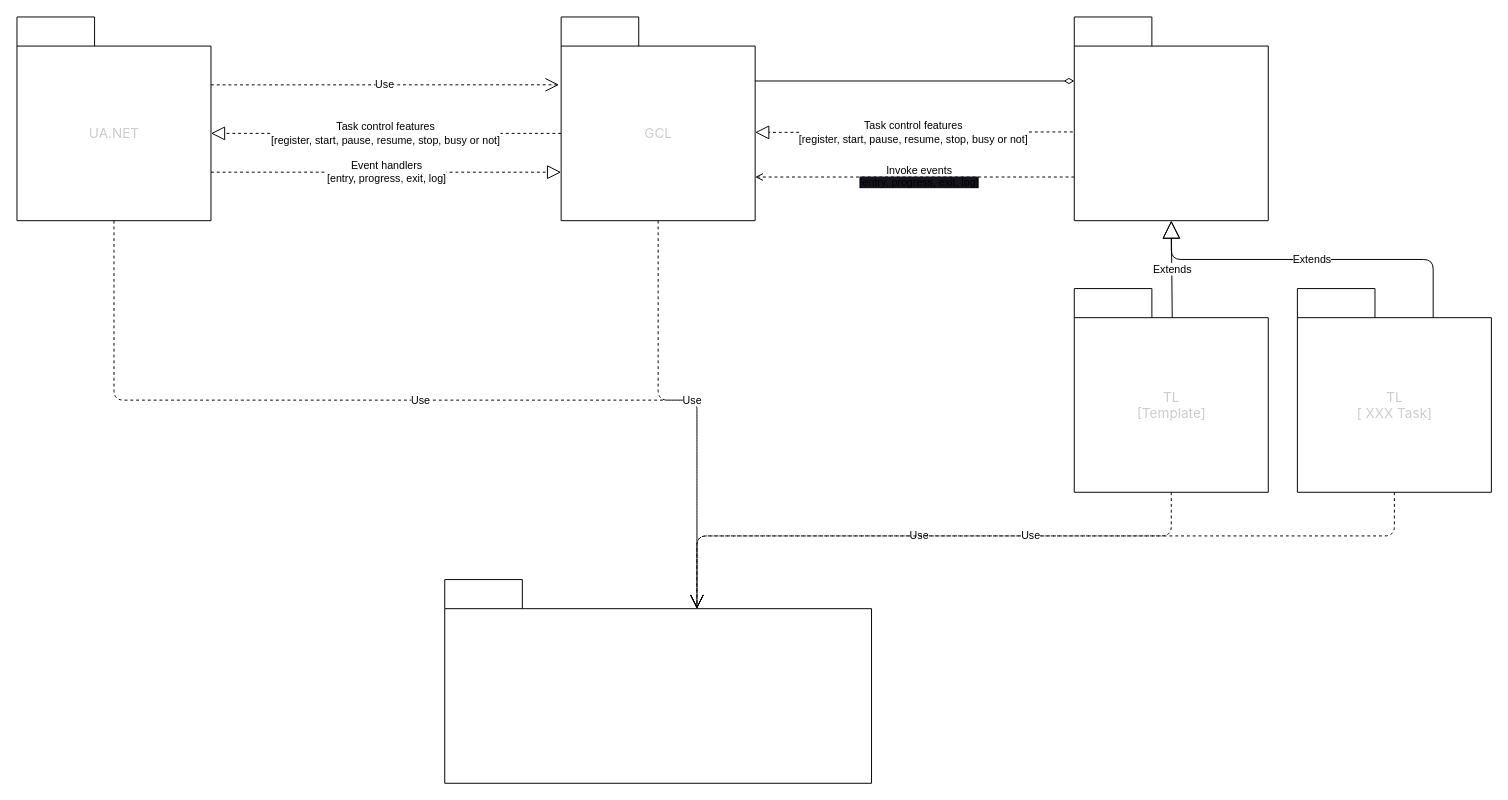
Image size: 1508x800. Some labels were removed from this diagram. Here are the shapes that lost their labels. From the top down, the box of each, then its label:
(1073, 16, 1268, 221): ATL
(444, 579, 872, 783): SUL
